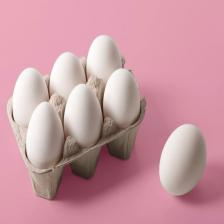egg: (159, 122, 207, 196), (63, 83, 103, 161), (103, 68, 141, 148), (26, 101, 64, 181), (11, 66, 50, 132), (49, 51, 87, 115), (86, 34, 123, 97)
